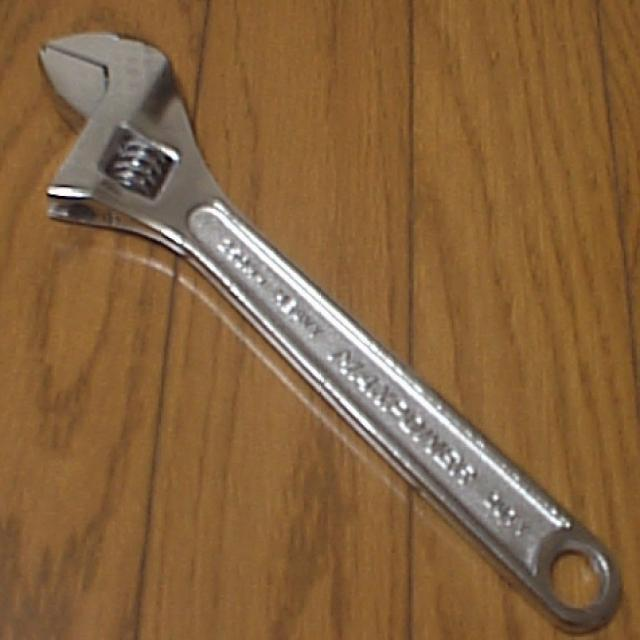wrench: (11, 0, 640, 624)
